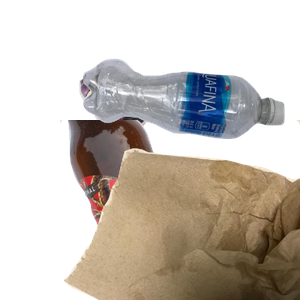glass: (65, 120, 300, 300)
metal: (77, 61, 222, 191)
plastic: (80, 56, 300, 187)
trash: (60, 120, 300, 300)
